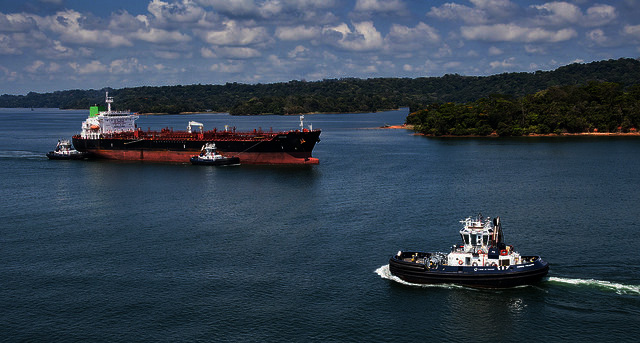tanker: (70, 89, 327, 171)
tug_boat: (391, 210, 567, 296), (187, 144, 241, 164), (41, 138, 79, 157)
